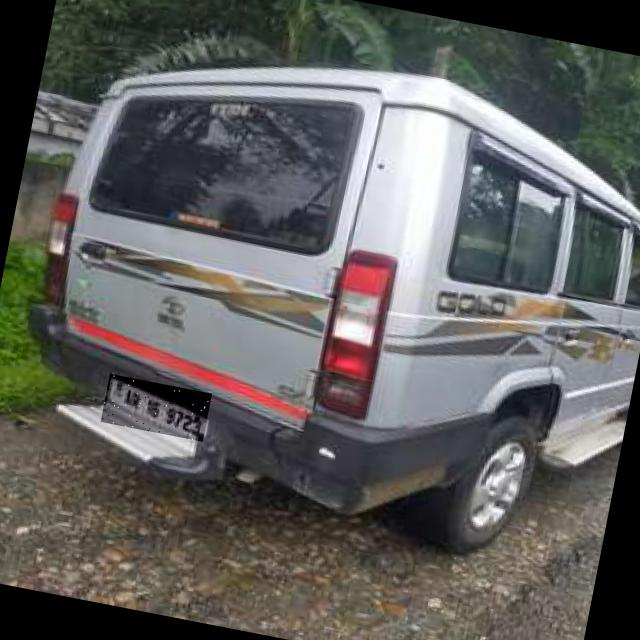Plate: (102, 375, 213, 443)
